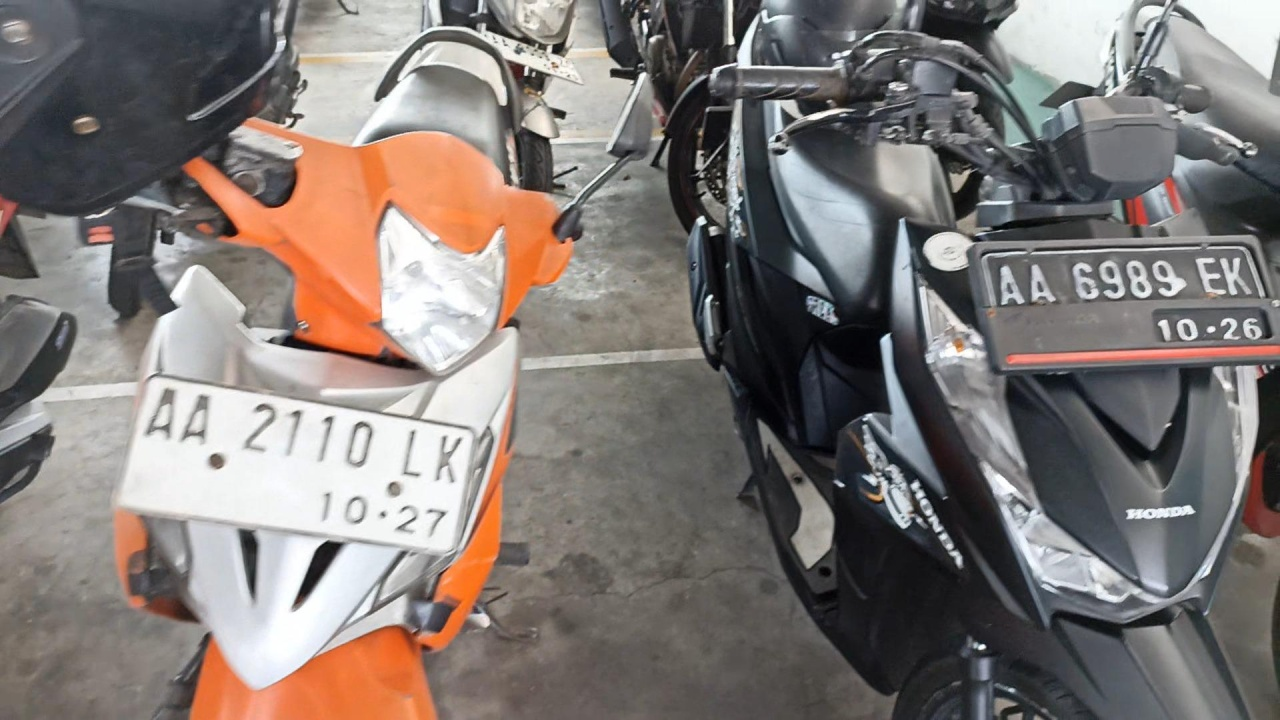plate: (112, 373, 475, 555), (976, 240, 1280, 366)
